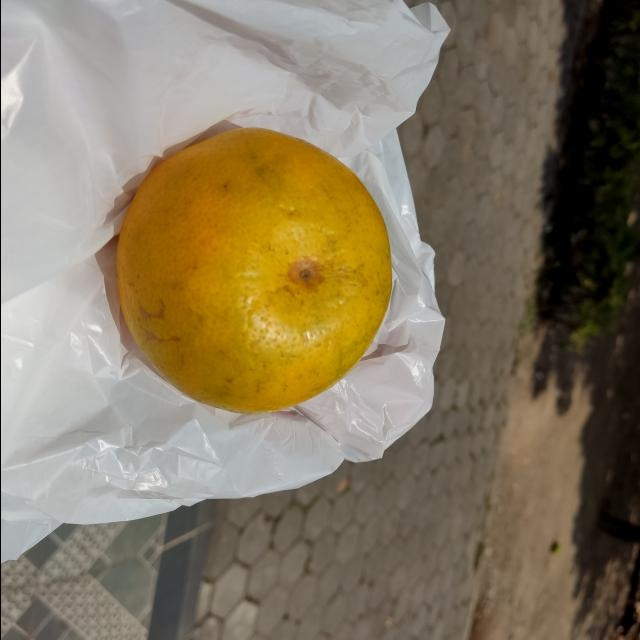agrume: (116, 125, 392, 415)
